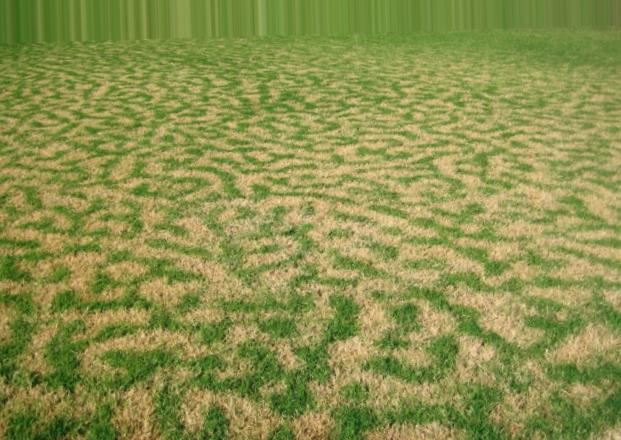patch: (13, 60, 620, 431)
